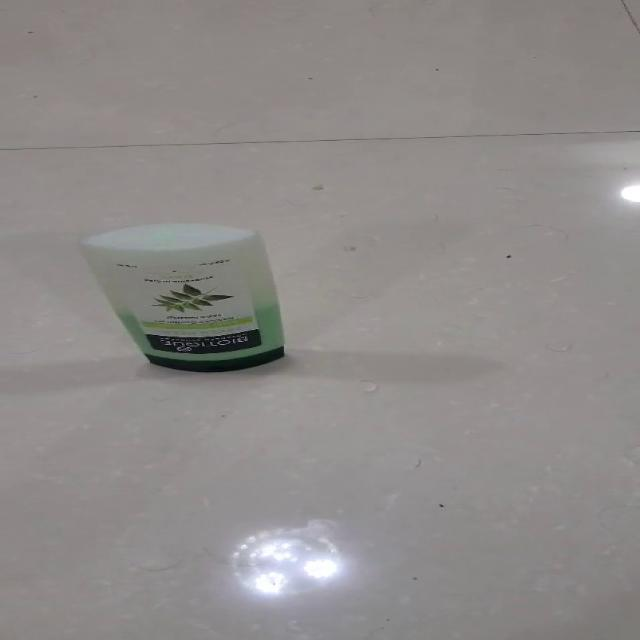plastic: (78, 221, 286, 373)
